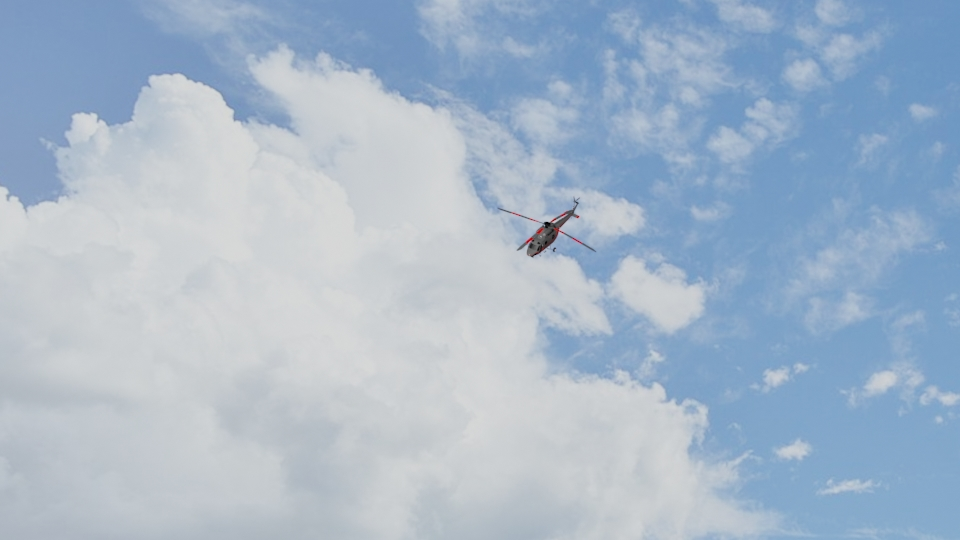heli: (499, 192, 595, 259)
